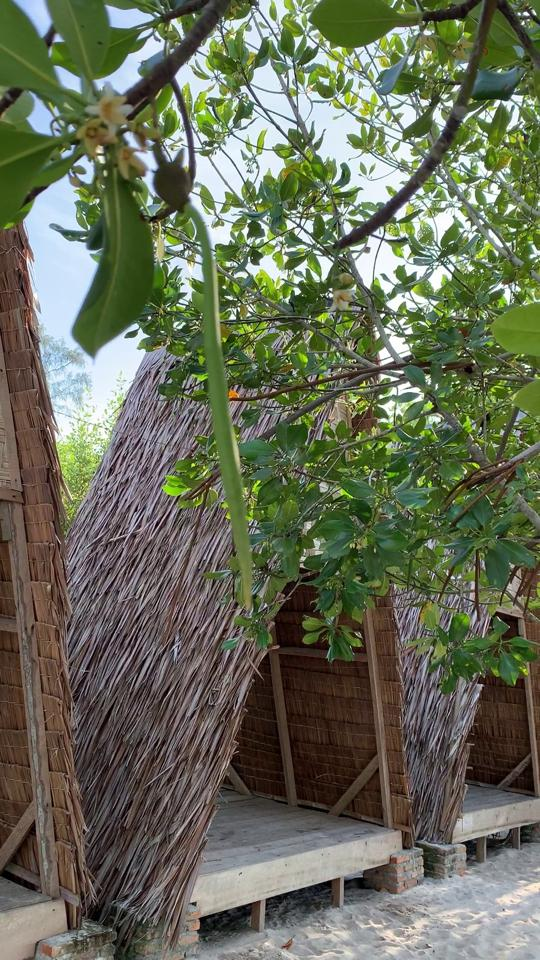mentah: (143, 123, 267, 634)
